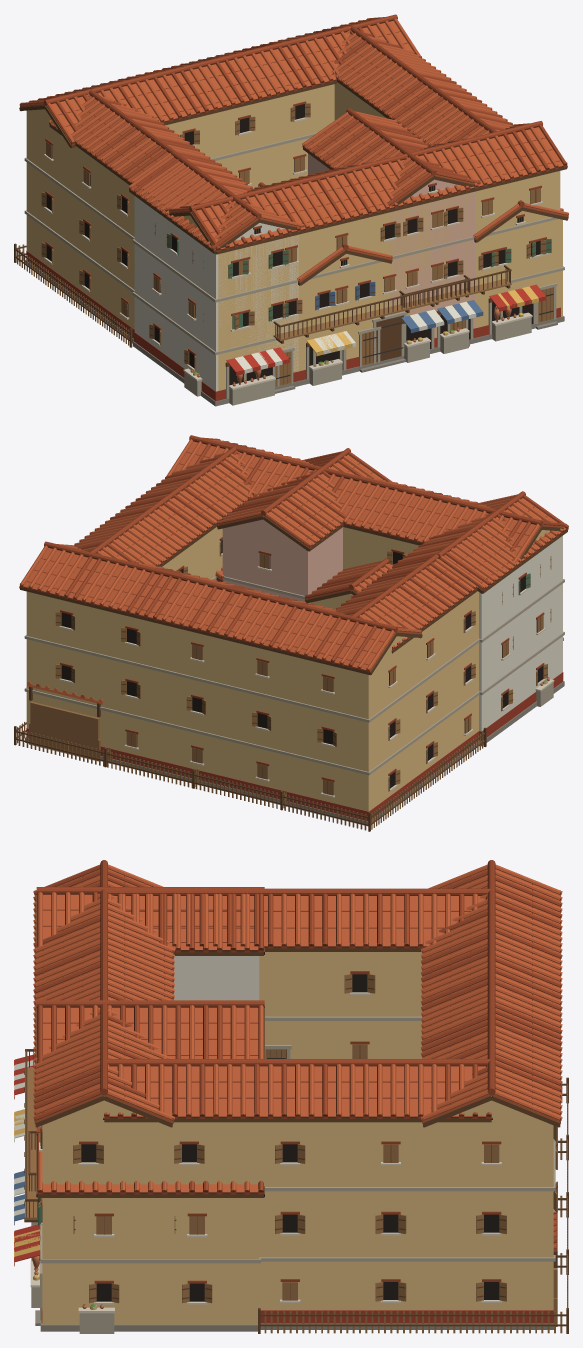
File: Insula.fbx
The picture shows the model from 3 angles, top to bottom: view 1: azimuth 30°, elevation 25°; view 2: azimuth 150°, elevation 25°; view 3: azimuth 270°, elevation 25°; orthographic projection. The views are drawn at different scales.
Visible parts, largest first — view 1: Insula_0, Insula_1; view 2: Insula_0, Insula_1; view 3: Insula_0, Insula_1.
Boxes of the visible parts, box(x1,y1,x2,y2) form: Insula_0: box(19, 14, 567, 405); Insula_1: box(14, 108, 568, 406); Insula_0: box(19, 435, 567, 826); Insula_1: box(14, 448, 568, 831); Insula_0: box(14, 860, 562, 1333); Insula_1: box(14, 887, 568, 1333).
Bounding box in the file's own units: 7.1 × 3.51 × 7.16.
